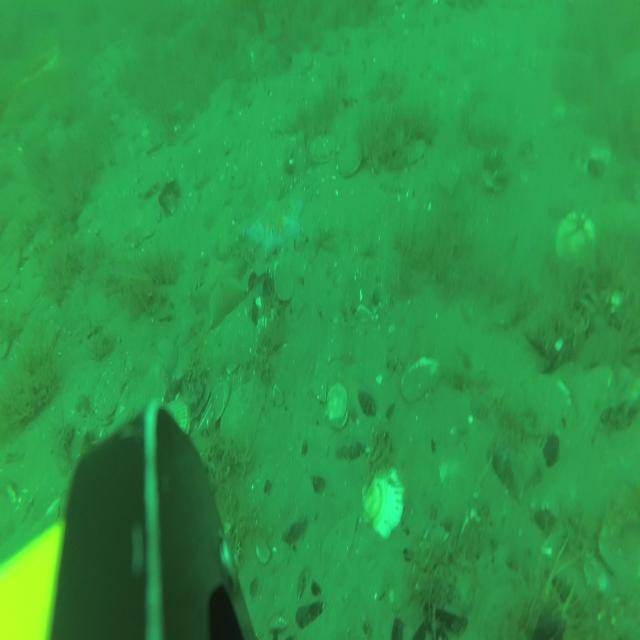scallop: (361, 466, 405, 540), (554, 210, 596, 274), (399, 359, 442, 402), (157, 396, 189, 452), (96, 367, 121, 418), (325, 379, 349, 432), (308, 133, 338, 164), (335, 144, 363, 177)
starfish: (191, 256, 249, 326), (248, 193, 306, 250)
